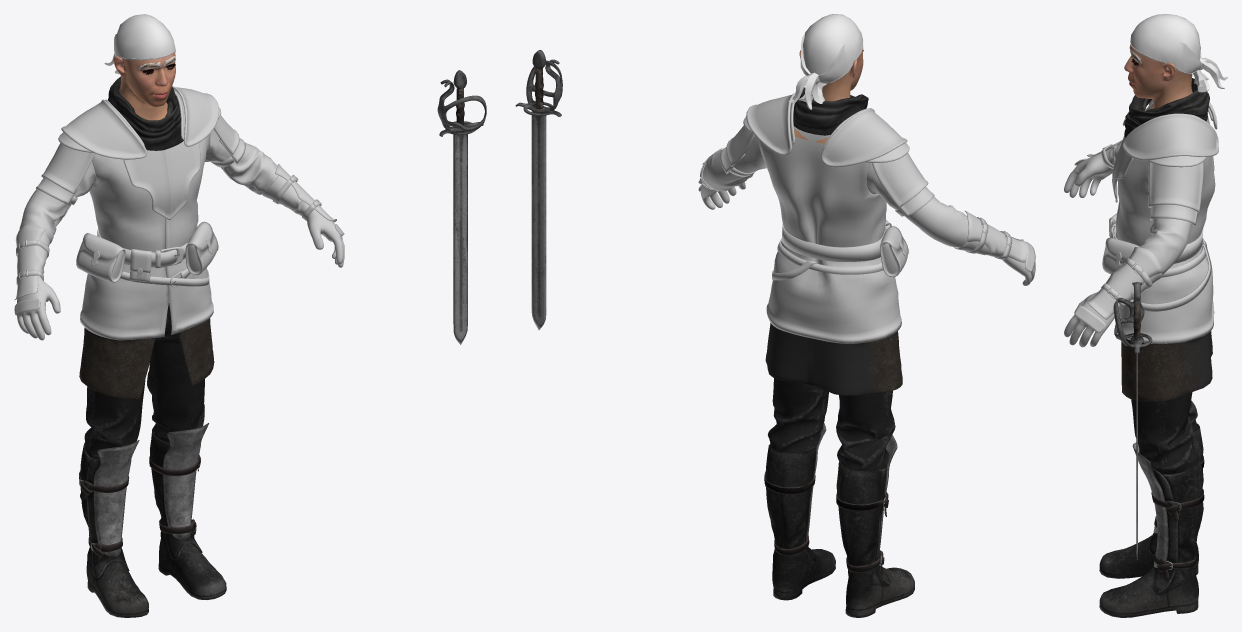
Rendered from Batyr.fbx.
The picture shows the model from 3 angles, left to right: view 1: azimuth 30°, elevation 25°; view 2: azimuth 150°, elevation 25°; view 3: azimuth 270°, elevation 25°; orthographic projection. The views are drawn at different scales.
Parts seen in each view (by area): view 1: Batyr, sword, Erlan_Face, bandana; view 2: Batyr, sword, bandana, Erlan_Face; view 3: Batyr, bandana, Erlan_Face, sword.
Part boxes in pixels (box(x1,y1,x2,y2)): Batyr: box(14, 76, 344, 617); sword: box(437, 70, 486, 344); Erlan_Face: box(113, 52, 175, 120); bandana: box(104, 14, 175, 76); Batyr: box(698, 87, 1035, 617); sword: box(515, 50, 562, 329); bandana: box(788, 14, 863, 109); Erlan_Face: box(793, 47, 863, 143); Batyr: box(1064, 78, 1218, 617); bandana: box(1130, 14, 1227, 92); Erlan_Face: box(1124, 44, 1207, 114); sword: box(1113, 282, 1152, 559).
Size of what is drawn, in the model's own units: 163 by 182 by 46.93.
